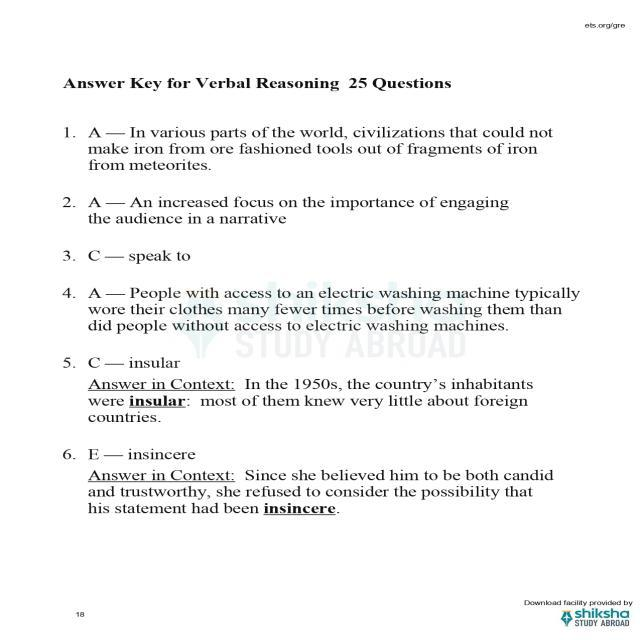Answer_Block: (7, 438, 599, 530), (7, 348, 599, 432), (14, 112, 606, 175), (7, 284, 599, 341), (14, 182, 606, 237), (14, 240, 606, 278)
Question_Paper_Area: (14, 36, 606, 575)
